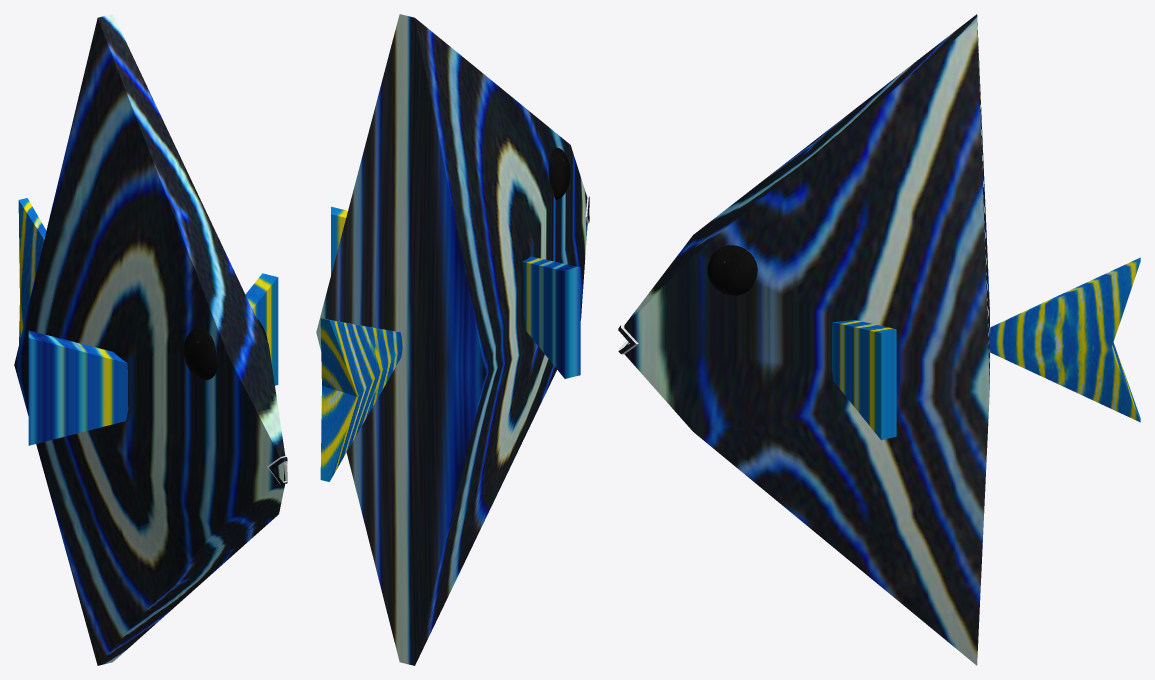
Rendered from Angelfish_tx.FBX.
3 views of the same model, side by side, from view 1: azimuth 30°, elevation 25°; view 2: azimuth 150°, elevation 25°; view 3: azimuth 270°, elevation 25° (orthographic).
Visible parts, largest first — view 1: Pyramid001; view 2: Pyramid001; view 3: Pyramid001.
Part boxes in pixels (bbox=[...]): Pyramid001: bbox=[14, 14, 287, 665]; Pyramid001: bbox=[316, 14, 589, 665]; Pyramid001: bbox=[618, 14, 1140, 665].
Size of the model in its own units: 24.22 by 60.11 by 44.14.
